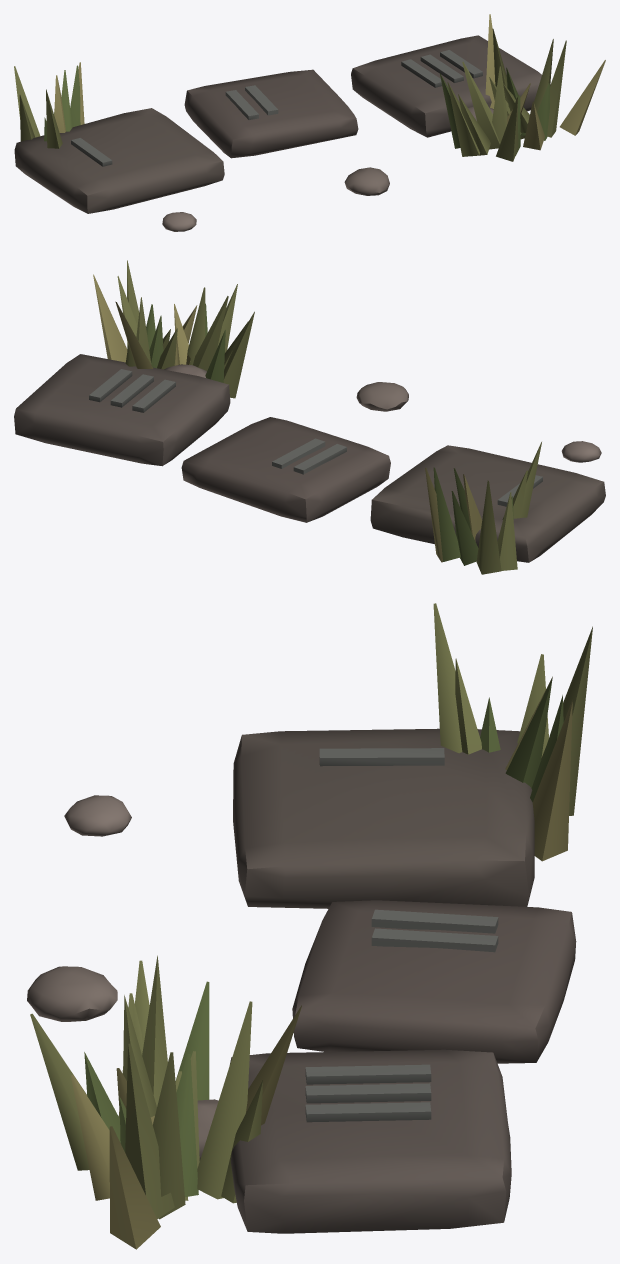
Rendered from stair_stones_c_lod1.glb.
3 renders of one model, top to bottom at view 1: azimuth 30°, elevation 25°; view 2: azimuth 150°, elevation 25°; view 3: azimuth 270°, elevation 25°, orthographic. The views are drawn at different scales.
Visible parts, largest first — view 1: Surface.001; view 2: Surface.001; view 3: Surface.001.
Part boxes in pixels (x1,y1,x2,y2): Surface.001: (14,14,605,231); Surface.001: (14,260,605,574); Surface.001: (27,603,592,1249).
Size of the model in its own units: 2.55 by 0.4931 by 1.27.
